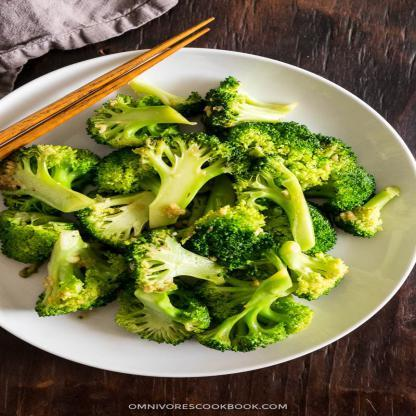broccoli: (0, 74, 403, 353)
